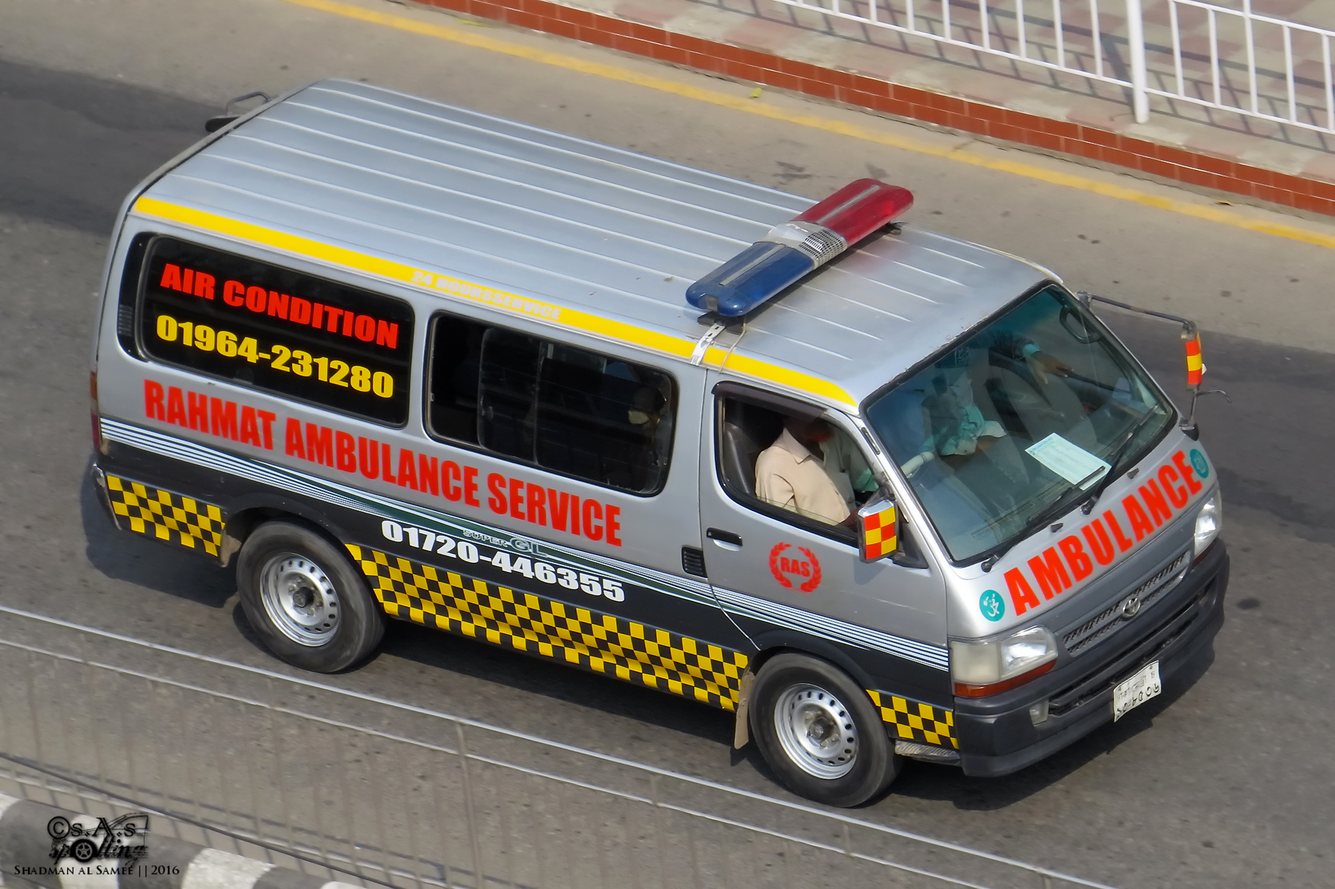Ambulance: (87, 72, 1236, 807)
